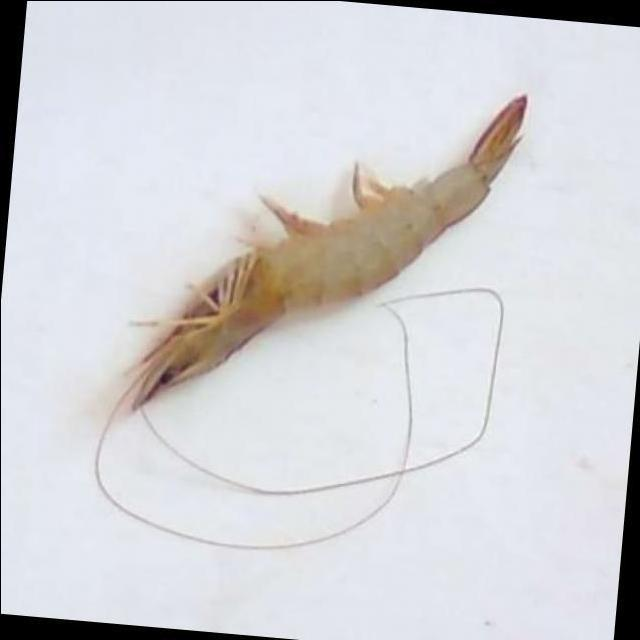shrimp: (126, 97, 526, 408)
